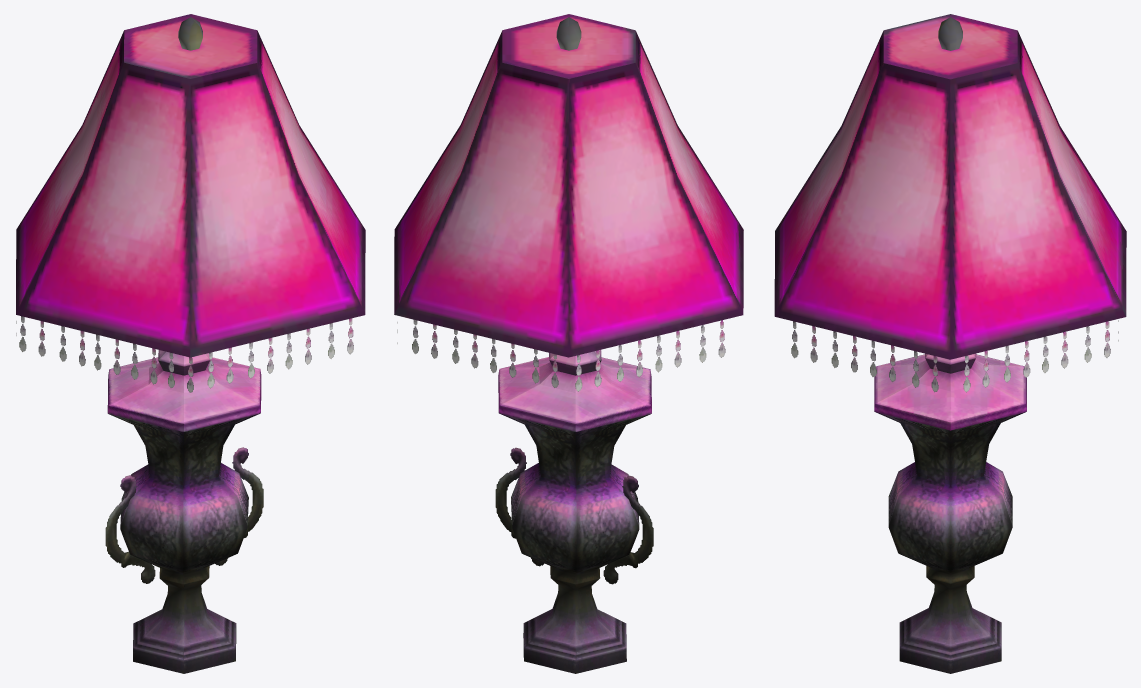
File: furni_0201201_02.FBX
The picture shows the model from 3 angles, left to right: view 1: azimuth 30°, elevation 25°; view 2: azimuth 150°, elevation 25°; view 3: azimuth 270°, elevation 25°; orthographic projection.
Visible parts, largest first — view 1: furni_0201201_02; view 2: furni_0201201_02; view 3: furni_0201201_02.
Boxes of the visible parts, x1=… form: furni_0201201_02: x1=16, y1=14, x2=365, y2=673; furni_0201201_02: x1=394, y1=14, x2=743, y2=673; furni_0201201_02: x1=774, y1=14, x2=1126, y2=673.
Bounding box in the file's own units: 59.47 × 103 × 51.88.
